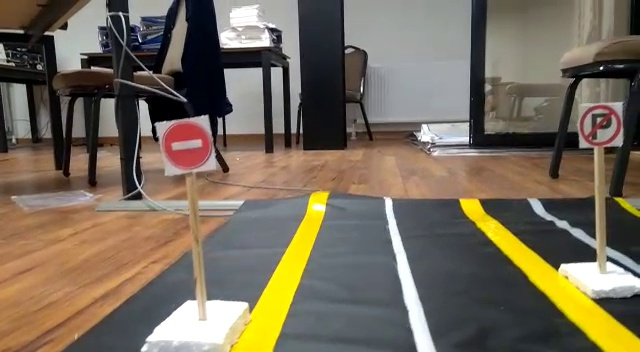girisi_olmayan_yol: (154, 117, 217, 171)
park_yapilmaz: (573, 101, 622, 151)
